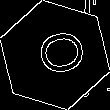O_W: (25, 28, 85, 82)
